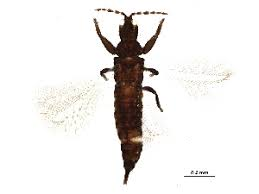Phlaeothripidae: (34, 9, 233, 185)
